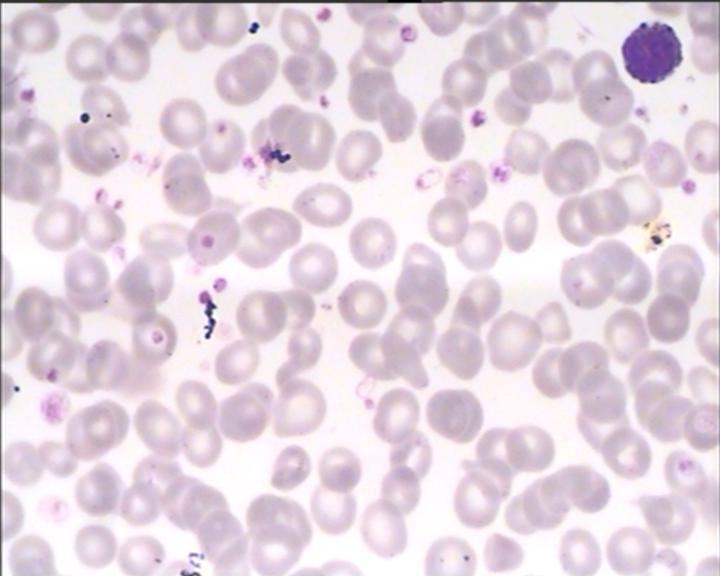baso: (618, 19, 689, 88)
